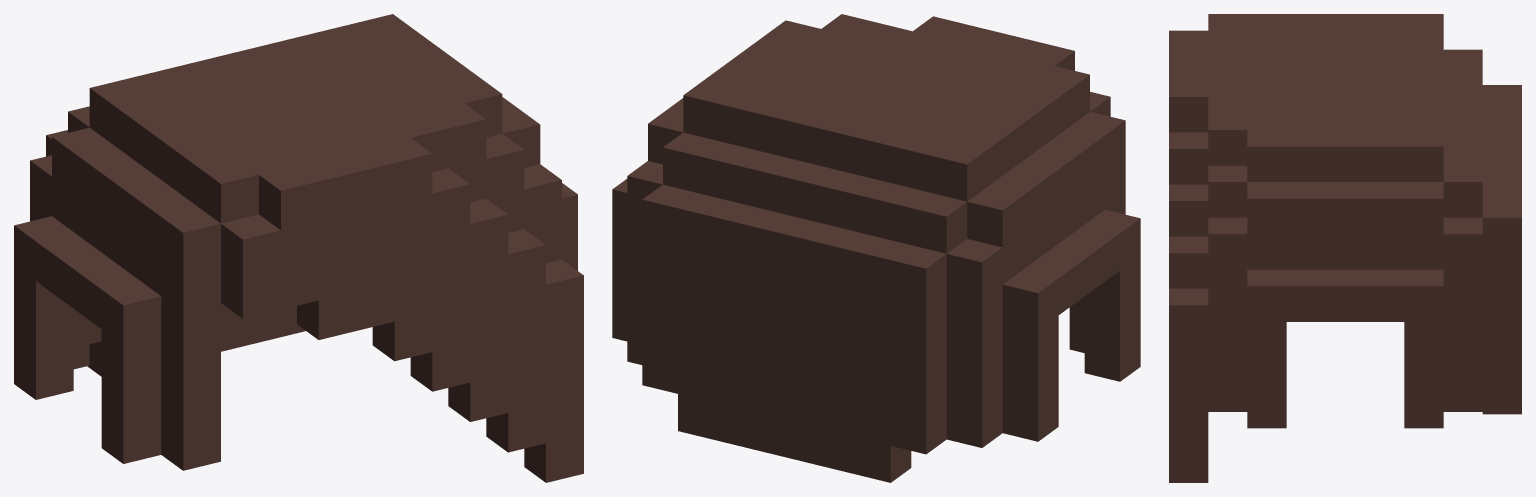
File: hair_05.gltf
The picture shows the model from 3 angles, left to right: view 1: azimuth 30°, elevation 25°; view 2: azimuth 150°, elevation 25°; view 3: azimuth 270°, elevation 25°; orthographic projection. The views are drawn at different scales.
Parts seen in each view (by area): view 1: Untitled-Mesh; view 2: Untitled-Mesh; view 3: Untitled-Mesh.
Part boxes in pixels (x1,y1,x2,y2): Untitled-Mesh: (14, 14, 583, 482); Untitled-Mesh: (612, 14, 1140, 482); Untitled-Mesh: (1169, 14, 1521, 482).
Size of the model in its own units: 12 by 9 by 9.
1 material, 1 textured.
